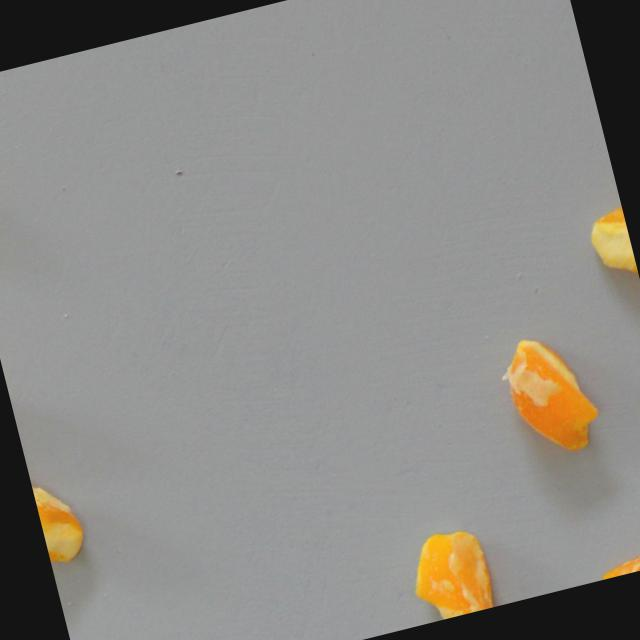pelicula: (496, 325, 608, 463), (399, 522, 496, 625), (28, 464, 90, 566), (581, 204, 640, 293), (597, 553, 640, 580)
